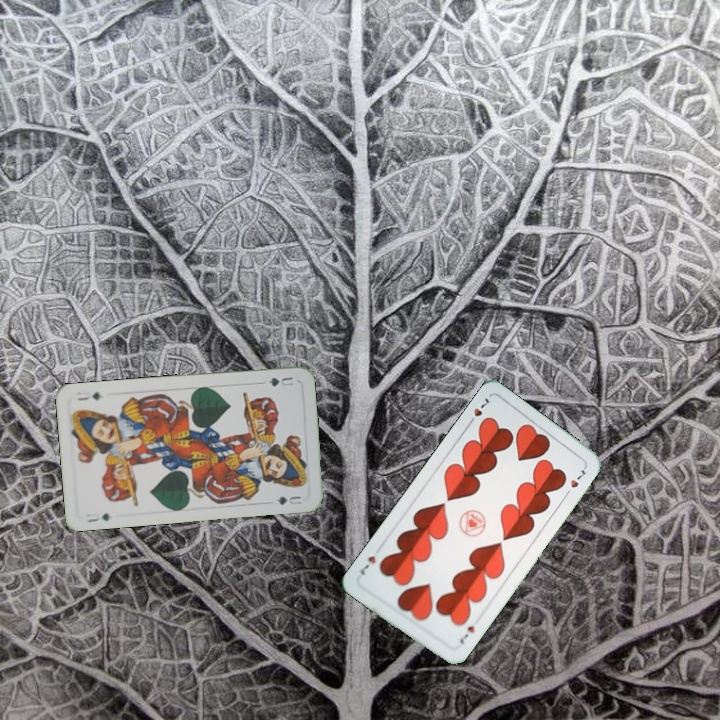GU: (258, 373, 296, 389), (83, 509, 112, 525)
H7: (464, 393, 492, 428), (455, 622, 477, 646)
